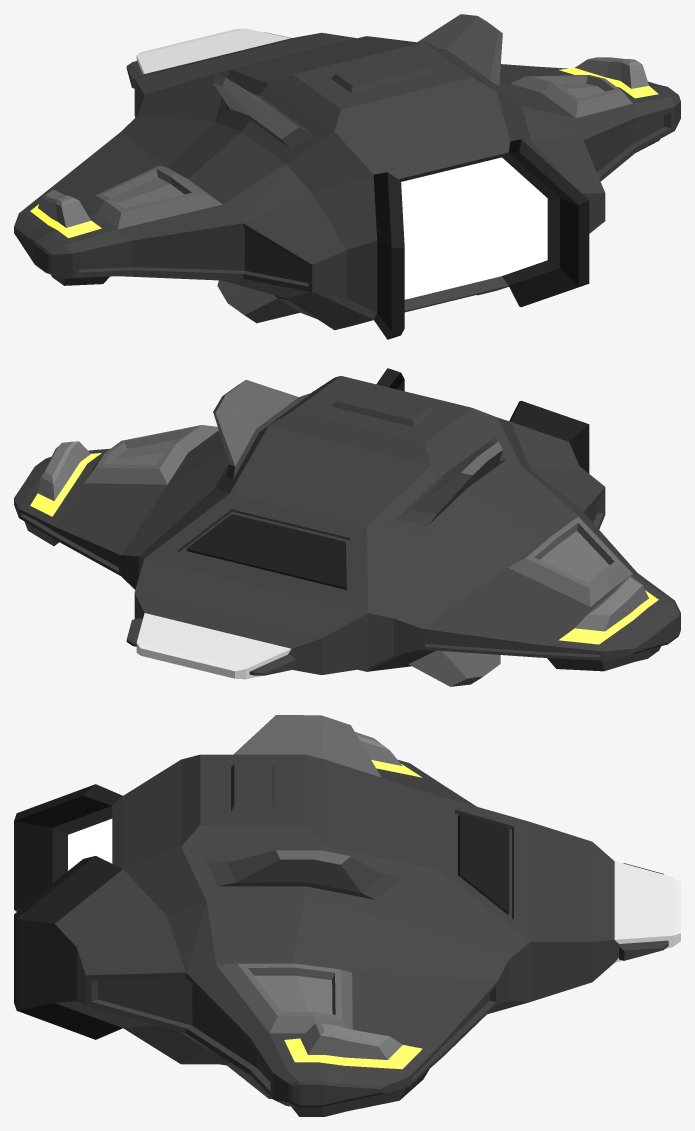
File: spaceship26_mod.gltf
The picture shows the model from 3 angles, top to bottom: view 1: azimuth 30°, elevation 25°; view 2: azimuth 150°, elevation 25°; view 3: azimuth 270°, elevation 25°; orthographic projection. The views are drawn at different scales.
Visible parts, largest first — view 1: Hull; view 2: Hull; view 3: Hull.
Part boxes in pixels (bbox=[...]): Hull: bbox=[14, 14, 680, 339]; Hull: bbox=[14, 368, 680, 686]; Hull: bbox=[14, 715, 680, 1116].
Bounding box in the file's own units: 18.87 × 6.54 × 15.63.
1 material, 1 textured.
